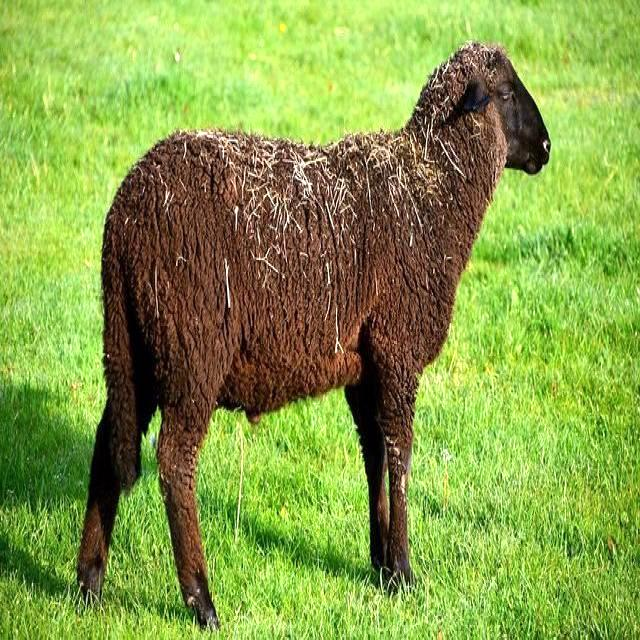sheep: (79, 40, 556, 629)
